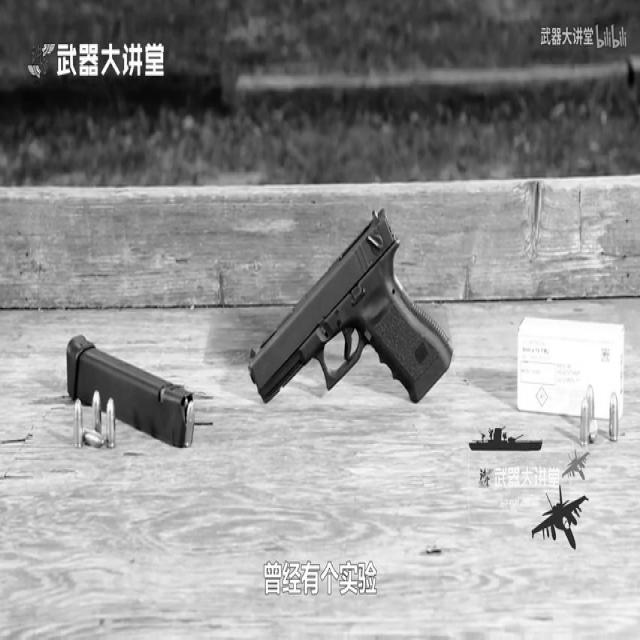Hand-Gun: (241, 106, 466, 566)
